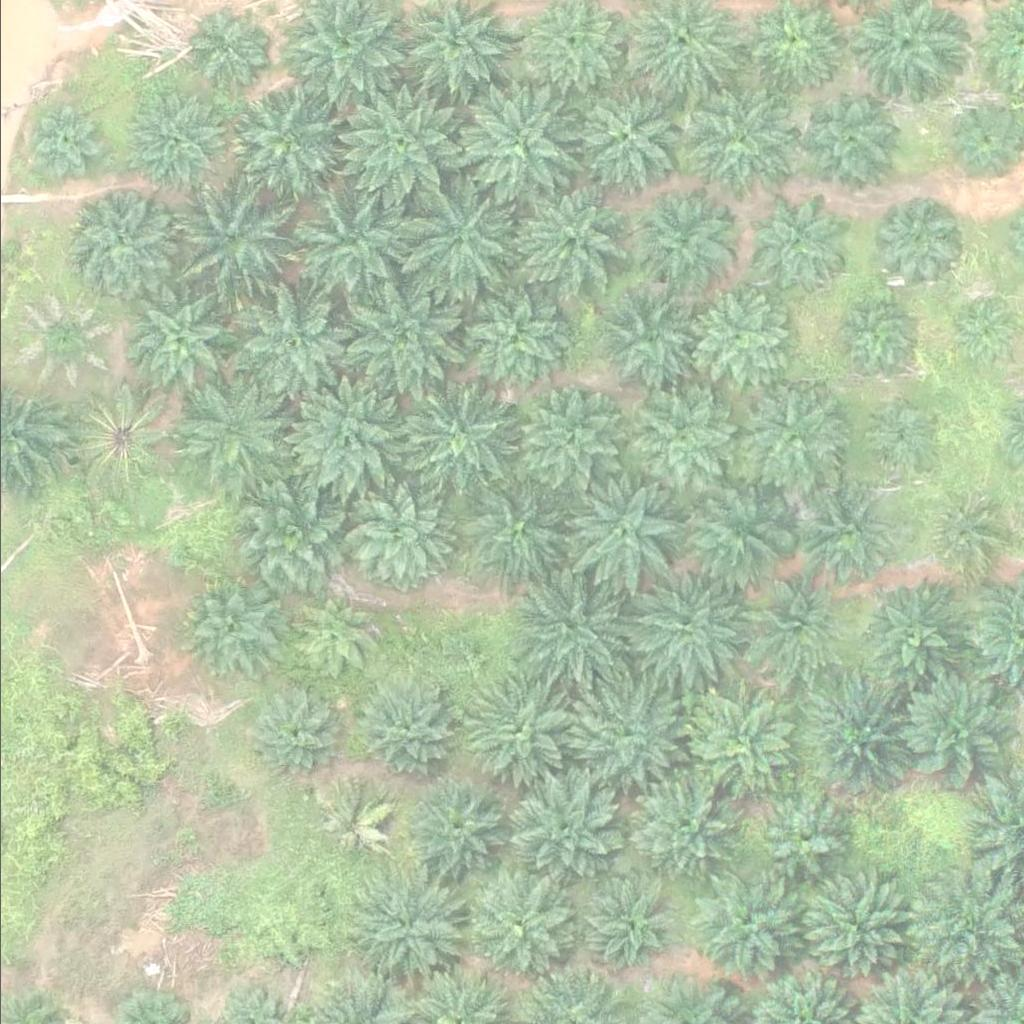Kelapa_Sawit: (557, 468, 683, 593), (892, 668, 1018, 793), (335, 466, 461, 591), (233, 471, 359, 596), (395, 370, 521, 495), (286, 367, 412, 492), (169, 364, 295, 489), (452, 268, 578, 393), (342, 273, 468, 398), (232, 273, 358, 398), (502, 180, 628, 305), (394, 177, 520, 302), (293, 175, 419, 300), (169, 175, 295, 300), (459, 83, 585, 208), (339, 81, 465, 206), (225, 80, 351, 205), (684, 85, 798, 198), (794, 874, 908, 987), (572, 81, 685, 194), (679, 476, 792, 589), (625, 572, 738, 685), (690, 872, 803, 985), (572, 865, 685, 978), (465, 674, 578, 787), (352, 670, 465, 783), (513, 568, 626, 681), (122, 281, 235, 394), (739, 382, 852, 494), (624, 384, 737, 496), (853, 582, 966, 694), (737, 569, 850, 681), (800, 681, 913, 793), (681, 686, 794, 798), (571, 679, 684, 791), (626, 767, 739, 879), (461, 871, 574, 983), (347, 870, 460, 982), (510, 771, 623, 883), (460, 473, 573, 585), (508, 382, 621, 494), (65, 186, 178, 298), (244, 681, 345, 781), (284, 586, 385, 686), (124, 89, 225, 189), (13, 290, 114, 390), (795, 92, 895, 192), (746, 194, 846, 294), (631, 196, 731, 296), (685, 287, 785, 387), (597, 286, 697, 386), (186, 577, 286, 677), (71, 391, 171, 491), (307, 779, 396, 867), (872, 199, 960, 287), (829, 294, 917, 382), (759, 796, 847, 884), (407, 786, 495, 874), (806, 491, 894, 578), (943, 108, 1019, 183), (190, 10, 265, 85), (926, 497, 1001, 572), (28, 104, 103, 179), (860, 400, 935, 475), (950, 299, 1013, 361)
